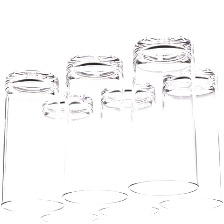glass: (125, 30, 198, 202), (58, 48, 124, 213), (157, 66, 224, 214), (0, 66, 63, 214), (95, 77, 161, 218), (35, 92, 102, 223)
